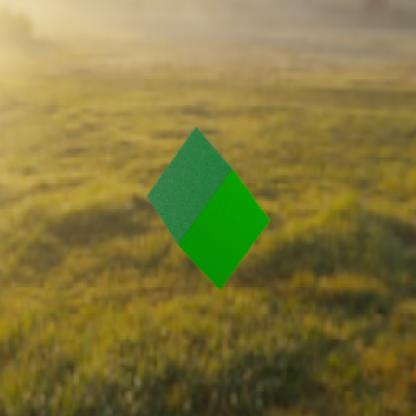cube: (146, 124, 270, 290)
